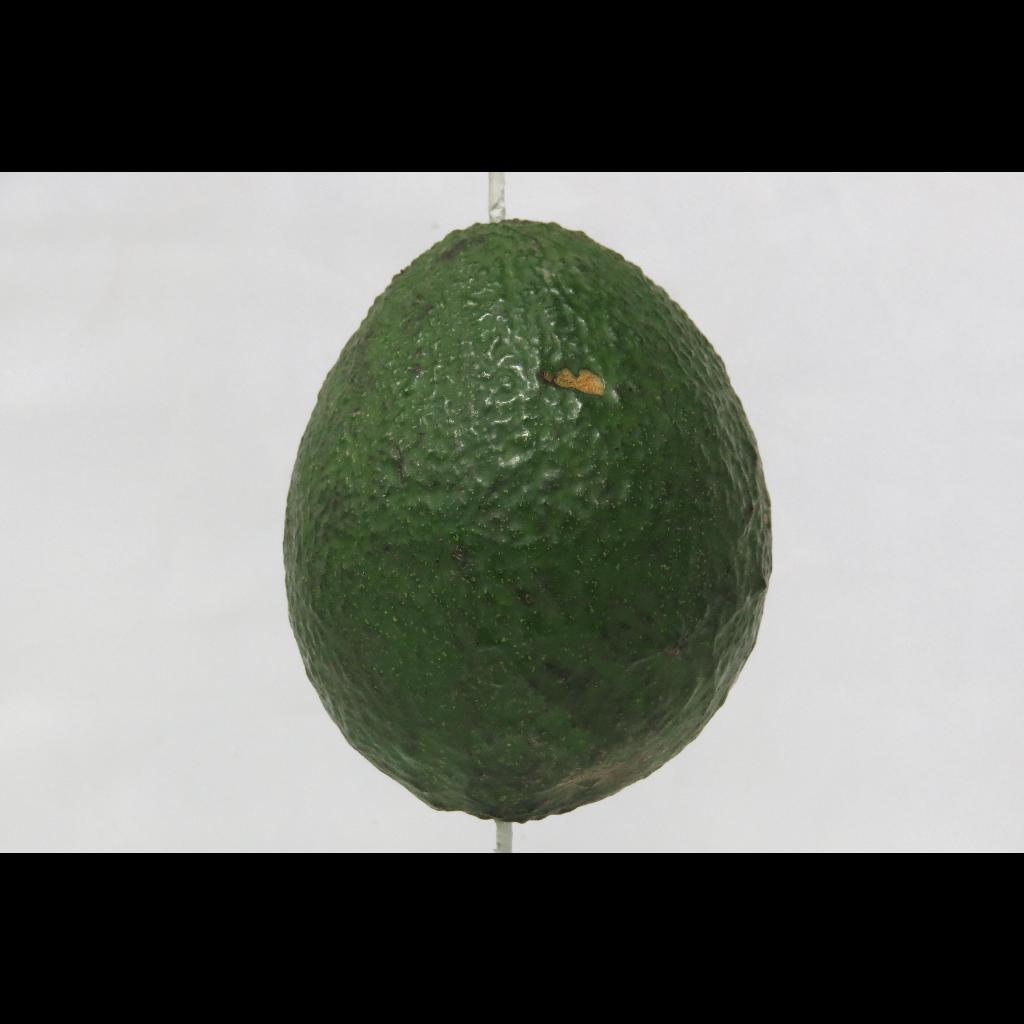Healthy: (220, 193, 812, 829)
